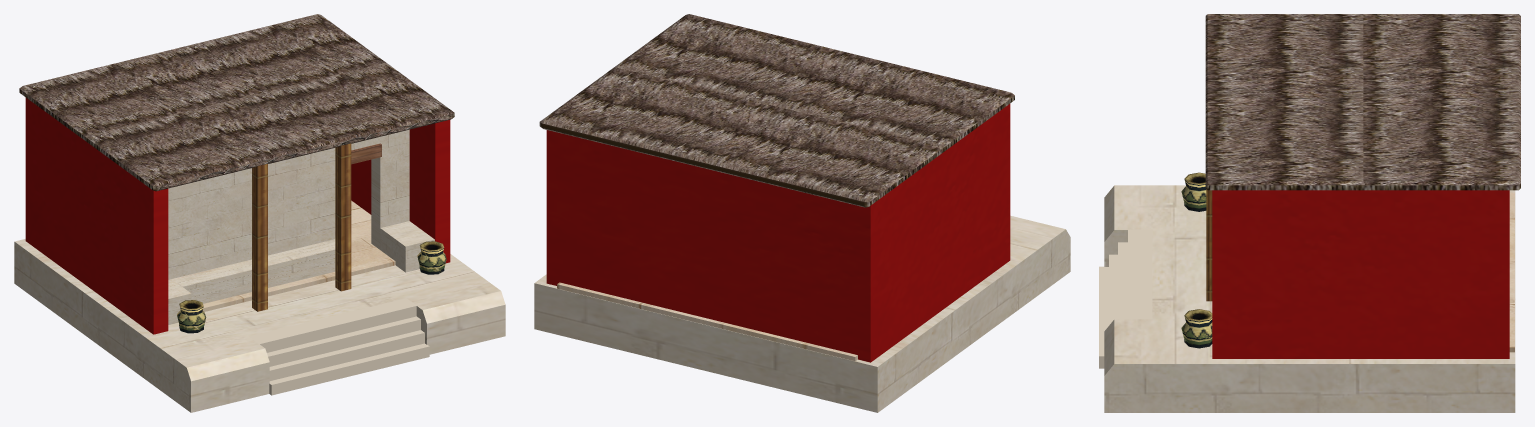
Rendered from house_2.dae.
3 views of the same model, side by side, from view 1: azimuth 30°, elevation 25°; view 2: azimuth 150°, elevation 25°; view 3: azimuth 270°, elevation 25° (orthographic). The views are drawn at different scales.
Visible parts, largest first — view 1: house_2; view 2: house_2; view 3: house_2.
Part boxes in pixels (x1,y1,x2,y2): house_2: (14,14,505,412); house_2: (534,14,1070,412); house_2: (1099,14,1520,412).
Size of the model in its own units: 16.03 by 16.01 by 9.46.
